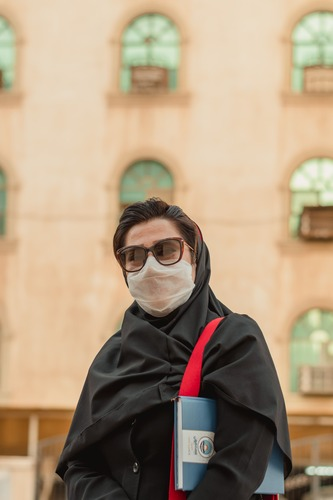with_mask: (116, 233, 194, 313)
